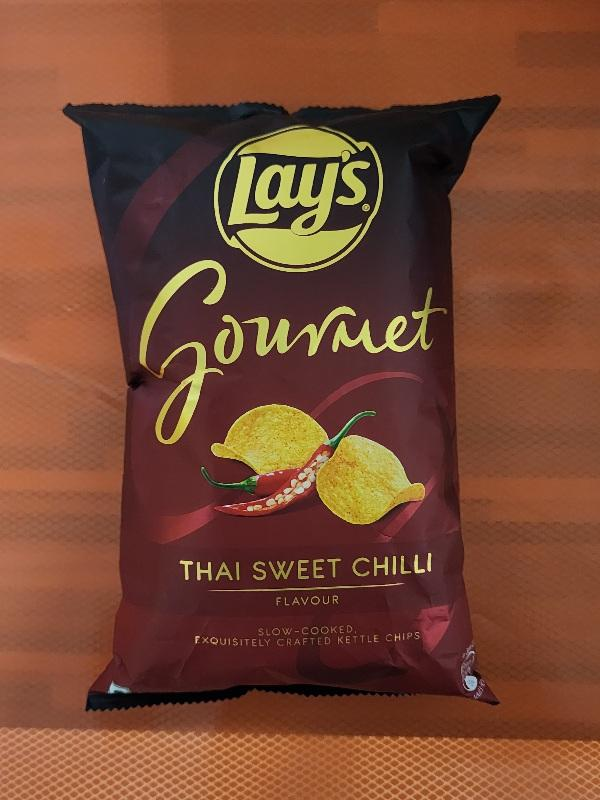Lays: (64, 96, 499, 706)
